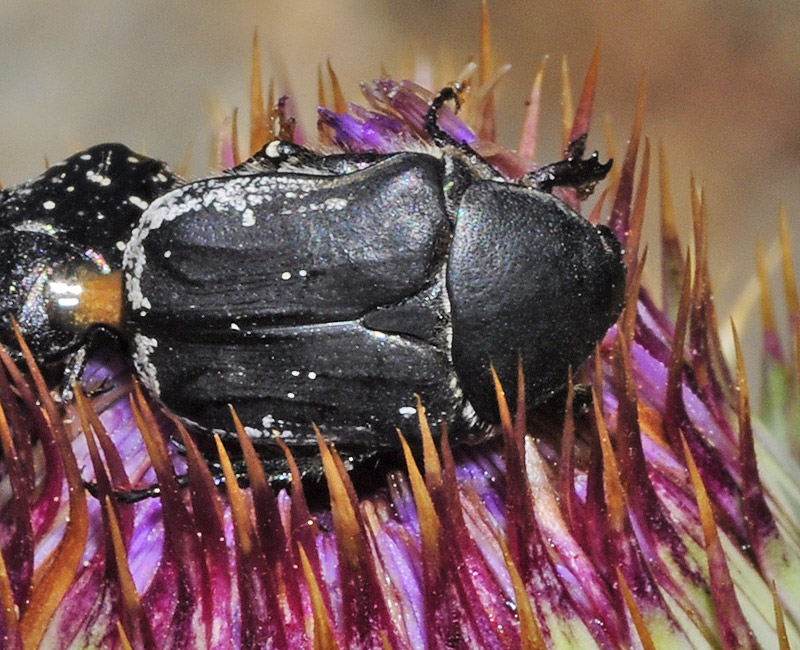Protaetia_oblonga: (75, 77, 660, 526)
